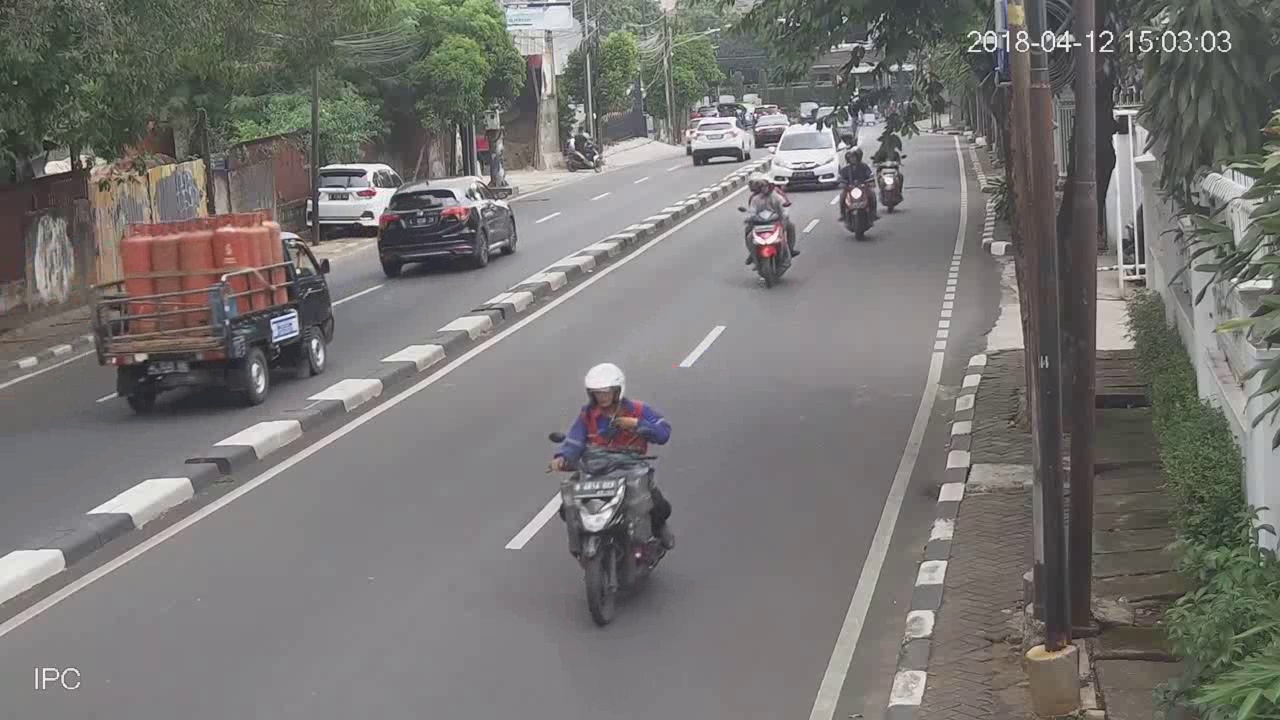car: (374, 176, 524, 273), (307, 161, 381, 238), (776, 126, 838, 195), (695, 112, 747, 166)
motorcycle: (538, 359, 688, 634), (734, 173, 803, 295), (838, 143, 881, 247), (872, 123, 911, 216)
truck: (82, 211, 335, 411)
